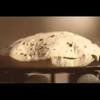roti: (9, 30, 100, 66)
